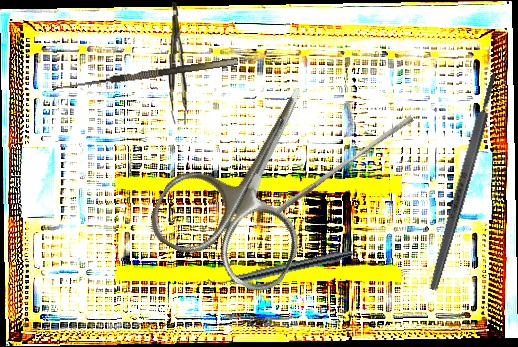Handpiece: (206, 245, 355, 292)
Hook Surgical: (51, 58, 240, 101)
Iris Scissors: (141, 55, 366, 301)
Pusher: (273, 110, 415, 221)
Scalpel Handle: (426, 71, 501, 292)
Tissue Forceps: (165, 1, 193, 126)
